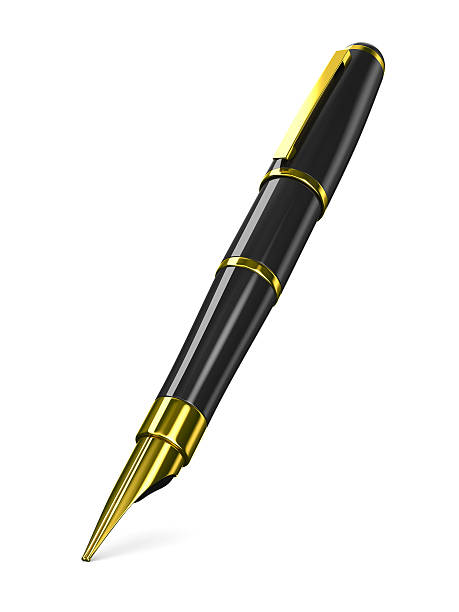pen: (71, 28, 401, 576)
